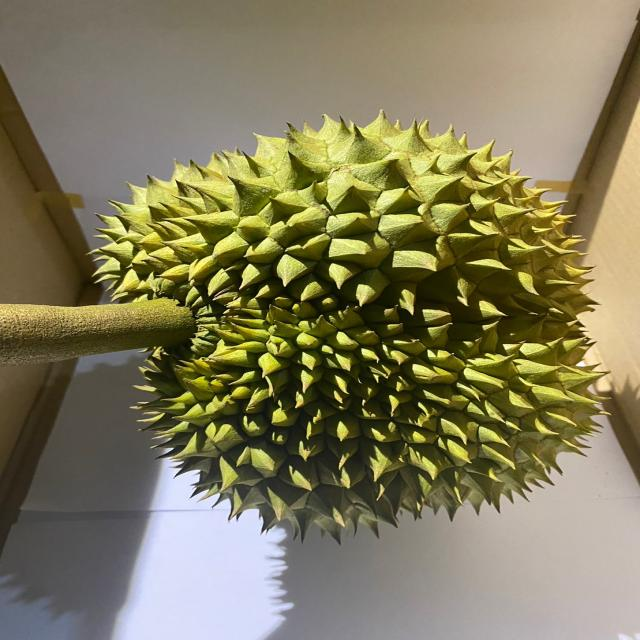immature: (83, 106, 614, 546)
